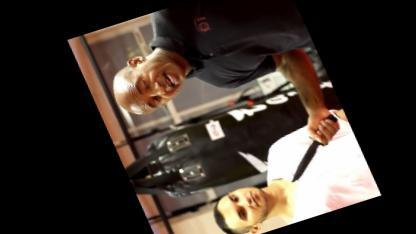knife: (260, 110, 356, 186)
